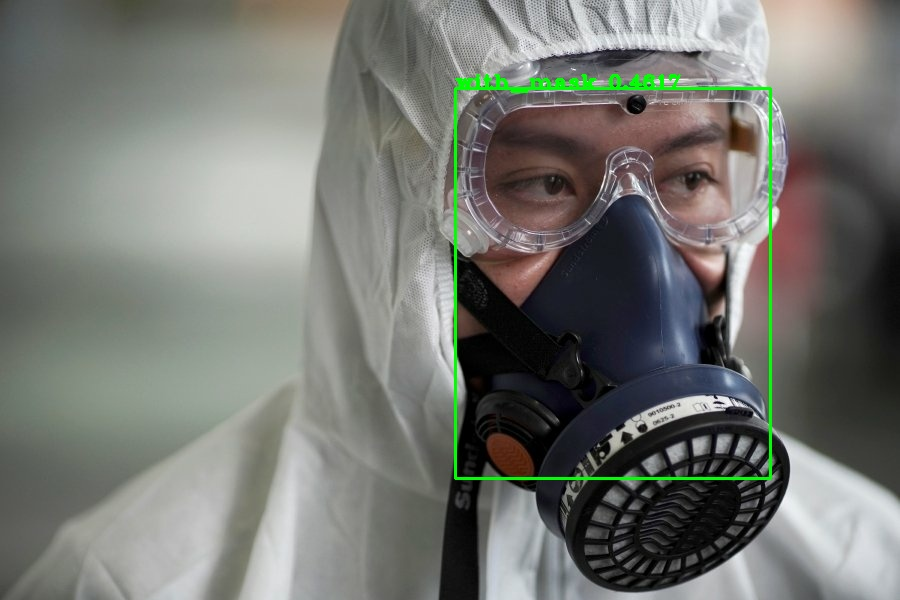with_mask: (409, 45, 813, 590)
